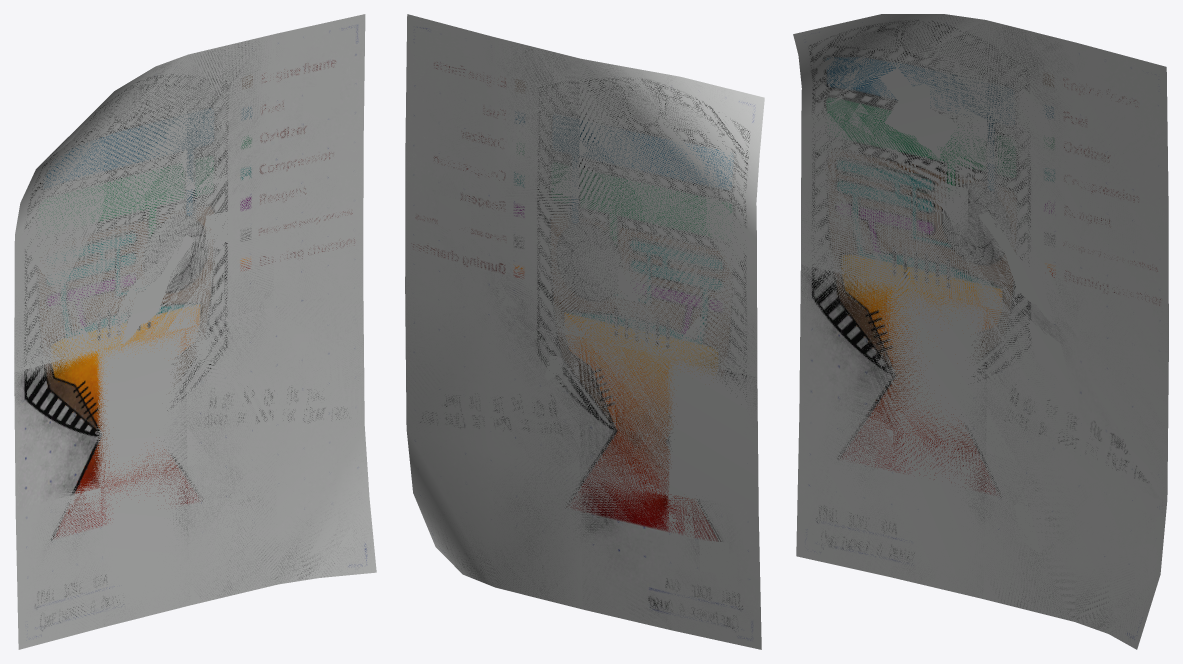
File: rocket_design_03.dae
3 renders of one model, left to right at view 1: azimuth 30°, elevation 25°; view 2: azimuth 150°, elevation 25°; view 3: azimuth 330°, elevation 25°, orthographic. The views are drawn at different scales.
Parts seen in each view (by area): view 1: 03; view 2: 03; view 3: 03.
Part boxes in pixels (x1,y1,x2,y2): 03: (14, 14, 376, 649); 03: (405, 14, 764, 649); 03: (793, 14, 1168, 649).
Bounding box in the file's own units: 0.9995 × 1.5 × 0.173.
